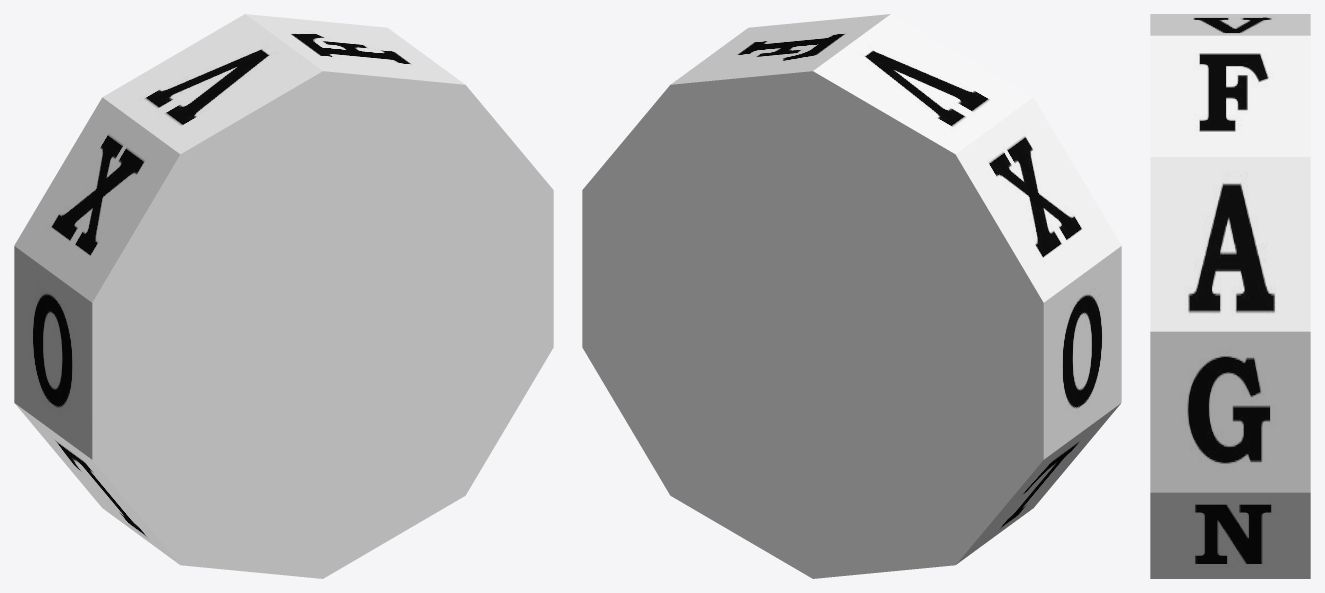
Rendered from TestPadlock.fbx.
3 views of the same model, side by side, from view 1: azimuth 30°, elevation 25°; view 2: azimuth 150°, elevation 25°; view 3: azimuth 270°, elevation 25° (orthographic). The views are drawn at different scales.
Parts seen in each view (by area): view 1: Circle; view 2: Circle; view 3: Circle.
Part boxes in pixels (x1=…): Circle: x1=14, y1=14, x2=553, y2=578; Circle: x1=582, y1=14, x2=1121, y2=578; Circle: x1=1150, y1=14, x2=1310, y2=578.
Size of the model in its own units: 190 by 200 by 55.72.
